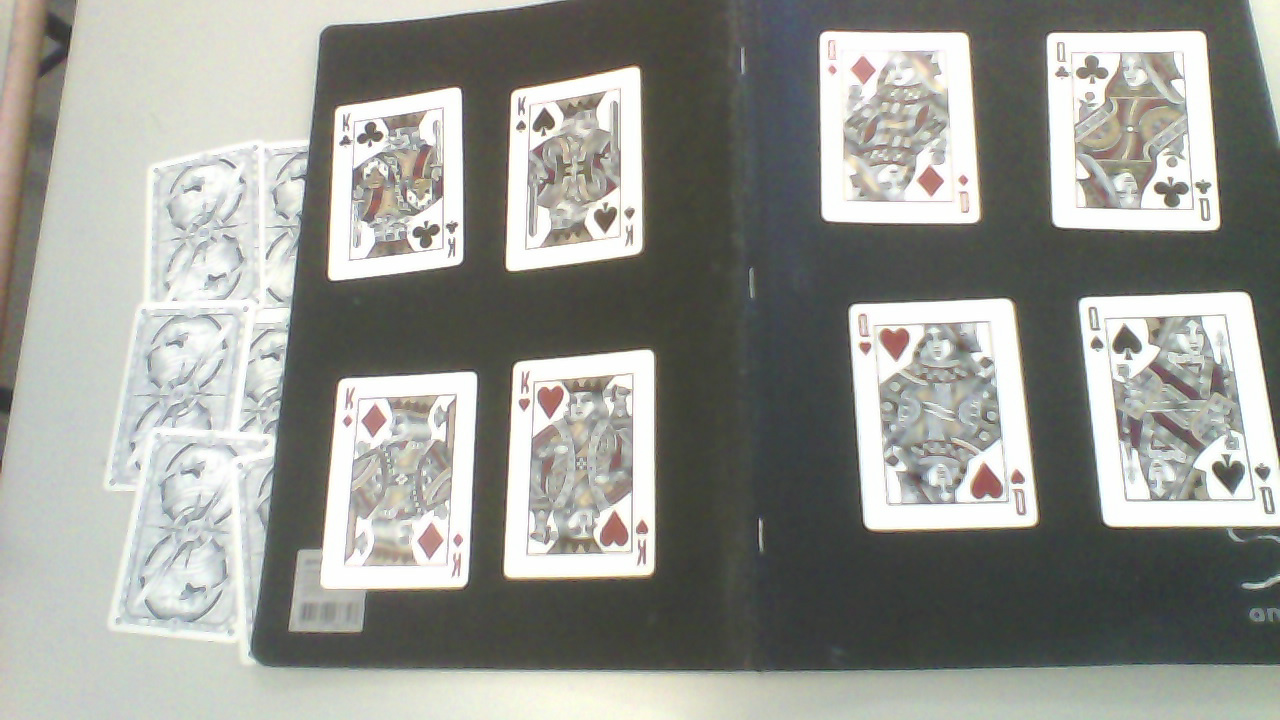king_clubs: (333, 89, 469, 286)
king_diamonds: (329, 376, 478, 592)
king_hearts: (507, 352, 658, 583)
king_spades: (502, 71, 647, 274)
queen_clubs: (1047, 35, 1228, 237)
queen_diamonds: (825, 36, 986, 228)
queen_hearts: (851, 302, 1046, 534)
queen_spades: (1081, 298, 1280, 530)
